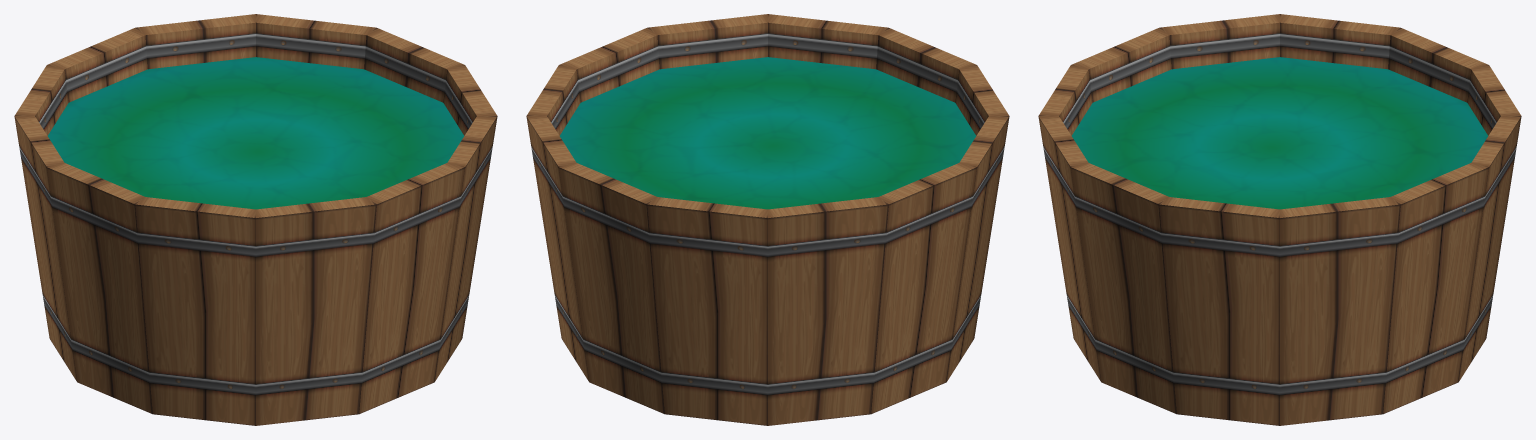
Rendered from Tank_02.FBX.
3 renders of one model, left to right at view 1: azimuth 30°, elevation 25°; view 2: azimuth 150°, elevation 25°; view 3: azimuth 270°, elevation 25°, orthographic.
Visible parts, largest first — view 1: Tank_02; view 2: Tank_02; view 3: Tank_02.
Part boxes in pixels (box(x1,y1,x2,y2)): Tank_02: box(14, 14, 497, 425); Tank_02: box(526, 14, 1009, 425); Tank_02: box(1038, 14, 1521, 425).
Bounding box in the file's own units: 1.43 × 0.7279 × 1.43.
